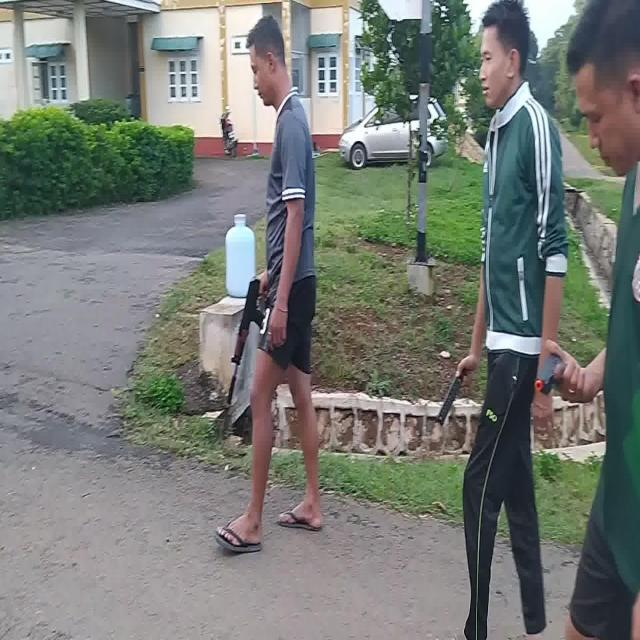gun: (228, 277, 264, 403), (534, 354, 568, 393)
